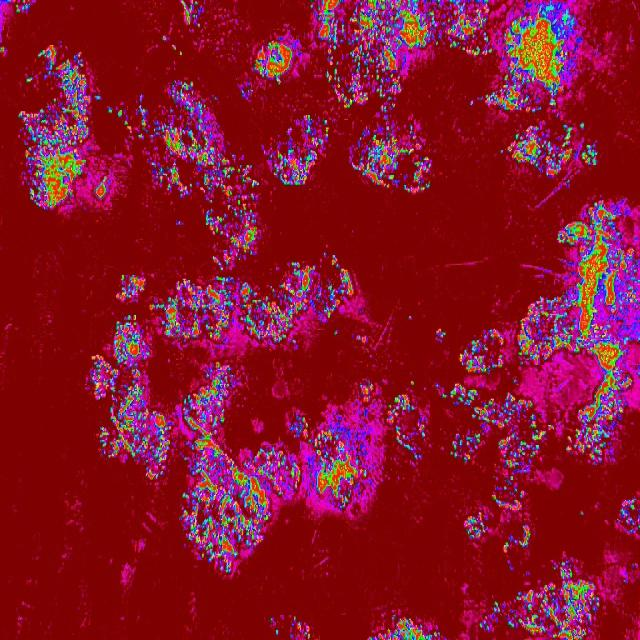fire: (12, 40, 92, 211), (559, 204, 638, 355), (311, 0, 494, 62), (148, 76, 232, 194), (496, 0, 582, 114), (180, 452, 260, 574), (111, 312, 158, 459), (308, 418, 372, 514), (351, 122, 432, 192), (160, 276, 238, 348), (506, 580, 599, 640), (266, 110, 332, 188), (180, 360, 234, 454), (562, 393, 626, 463), (202, 195, 260, 271), (324, 63, 406, 113), (498, 391, 544, 469), (506, 122, 574, 174), (240, 275, 288, 345), (515, 292, 560, 362), (260, 448, 302, 522), (384, 394, 427, 460), (460, 324, 505, 374), (288, 257, 318, 327), (320, 252, 351, 318), (253, 41, 294, 85), (370, 617, 440, 640), (592, 355, 634, 391), (85, 350, 111, 400), (465, 387, 497, 424), (450, 428, 482, 464), (615, 496, 640, 534), (112, 272, 148, 298), (230, 162, 260, 193), (178, 0, 201, 30), (492, 494, 524, 514), (134, 95, 148, 140), (494, 470, 522, 492), (96, 421, 112, 458), (158, 416, 172, 458), (289, 617, 312, 640), (464, 512, 485, 536), (144, 460, 164, 484), (582, 142, 601, 166), (5, 0, 35, 15), (290, 413, 306, 439), (449, 380, 465, 404), (356, 382, 376, 400), (94, 176, 110, 197), (559, 559, 574, 577), (519, 523, 530, 547), (170, 41, 183, 60), (484, 90, 497, 106), (239, 85, 252, 100), (148, 300, 162, 312), (502, 538, 512, 554), (492, 602, 502, 618), (478, 618, 490, 631), (545, 420, 556, 434), (435, 328, 449, 339), (355, 334, 369, 345), (117, 108, 126, 121), (123, 118, 131, 131), (104, 106, 114, 116), (440, 390, 450, 400), (408, 379, 418, 389), (498, 146, 506, 158), (331, 328, 340, 338), (274, 626, 282, 635), (405, 314, 414, 322), (0, 46, 7, 56), (578, 124, 588, 131), (175, 218, 182, 228), (268, 614, 274, 624), (566, 177, 572, 187), (578, 508, 584, 518), (95, 94, 101, 102), (160, 35, 167, 41), (434, 381, 438, 391), (468, 100, 473, 106), (552, 566, 556, 570)
